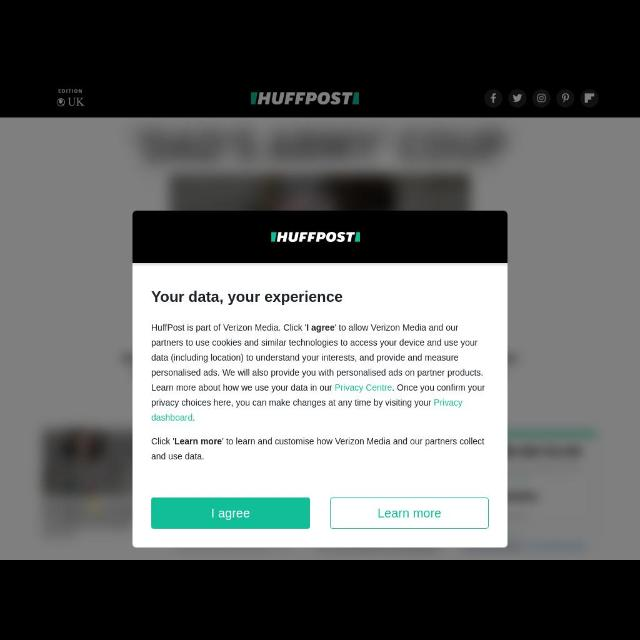icon: (584, 92, 594, 105), (512, 94, 522, 102), (561, 93, 569, 103), (490, 92, 496, 104), (538, 94, 546, 100)
image: (249, 91, 359, 107), (270, 230, 360, 242), (58, 86, 84, 108)
text: (150, 323, 486, 421), (152, 437, 484, 461), (152, 290, 342, 304), (378, 508, 440, 518), (210, 508, 250, 520)
textbutton: (330, 498, 490, 528), (152, 498, 310, 528)
toolbar: (1, 80, 639, 118)
